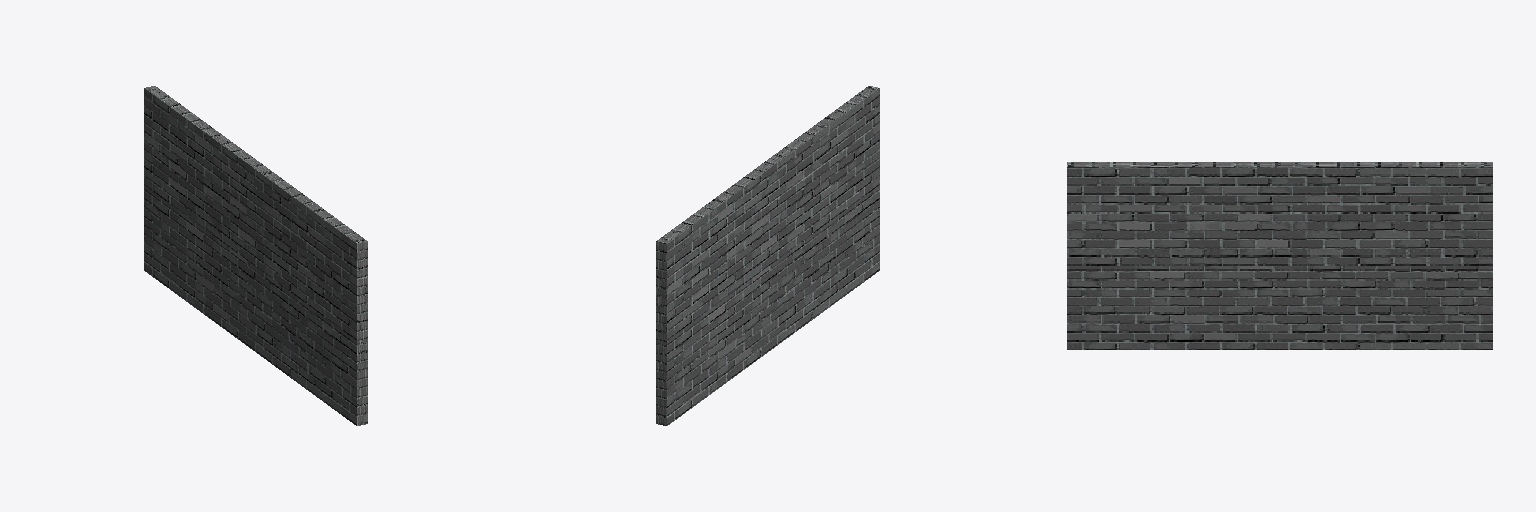
3 views of the same model, side by side, from view 1: azimuth 30°, elevation 25°; view 2: azimuth 150°, elevation 25°; view 3: azimuth 270°, elevation 25° (orthographic).
Parts seen in each view (by area): view 1: 立方体; view 2: 立方体; view 3: 立方体.
Boxes of the visible parts, x1,y1,x2,y2 form: 立方体: [144, 86, 367, 425]; 立方体: [656, 86, 879, 425]; 立方体: [1067, 162, 1492, 349].
Size of the model in its own units: 0.6656 by 11.08 by 23.38.
1 materials, 1 textured.